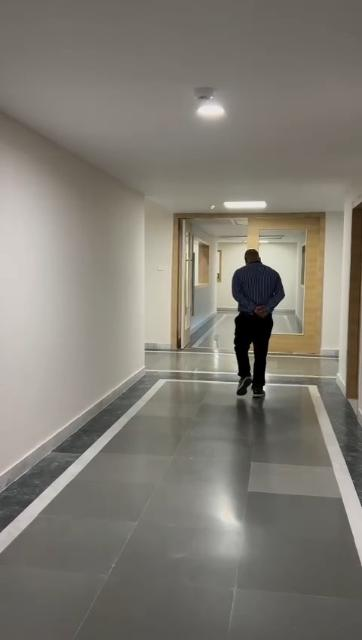floor: (0, 346, 361, 640)
moving-obj: (210, 246, 298, 408)
